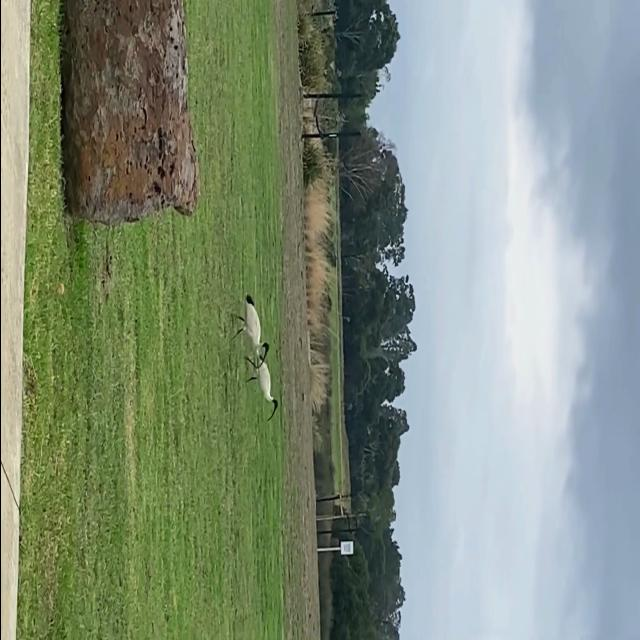Birds-Ibis: (231, 292, 273, 369), (242, 354, 282, 424)
